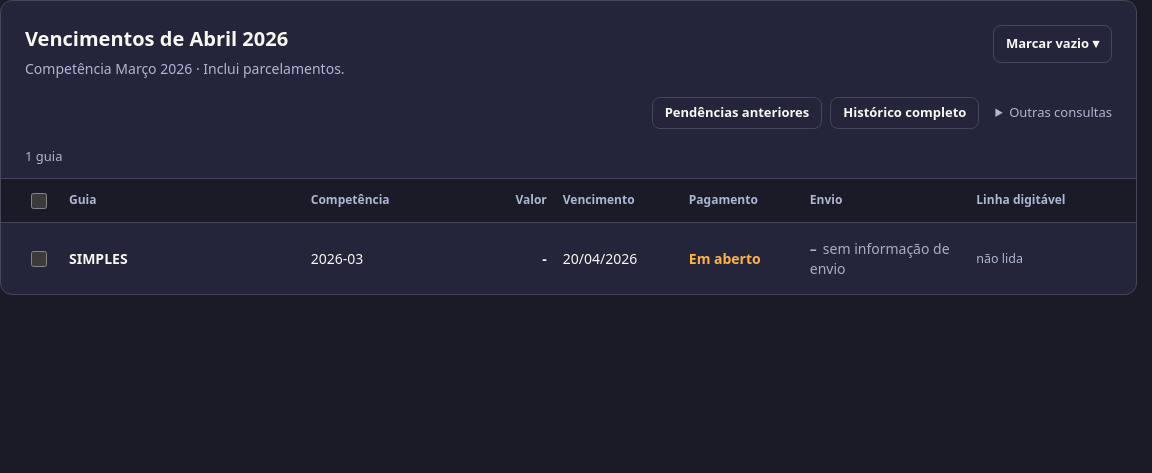
Test case: envio das guias selecionadas › envia as disponíveis sem bloquear o lote por {"status":"VAZIO"}
Click the button "Histórico completo" at (905, 113), box [830,97,979,129]
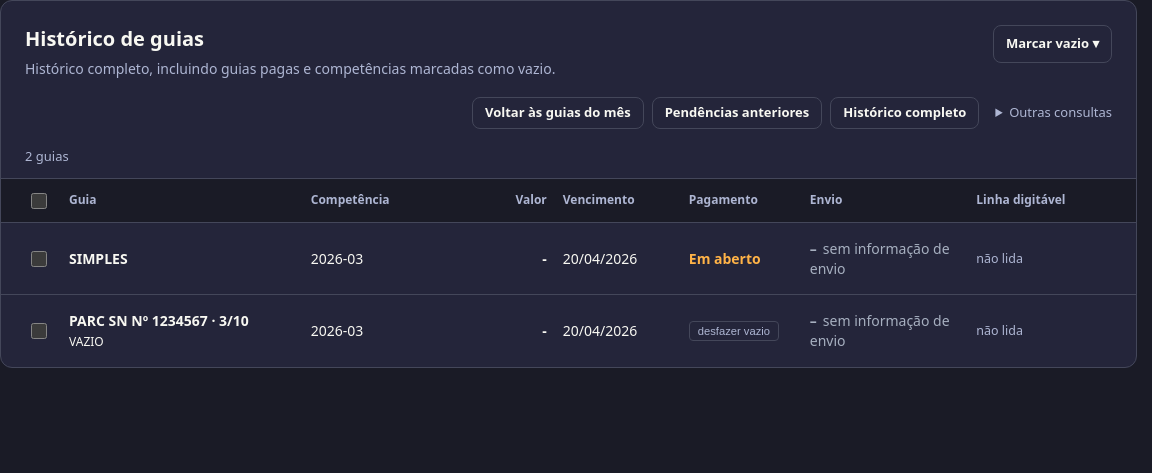
Click the checkbox named "Selecionar todas" at (39, 200), box [31,192,47,208]
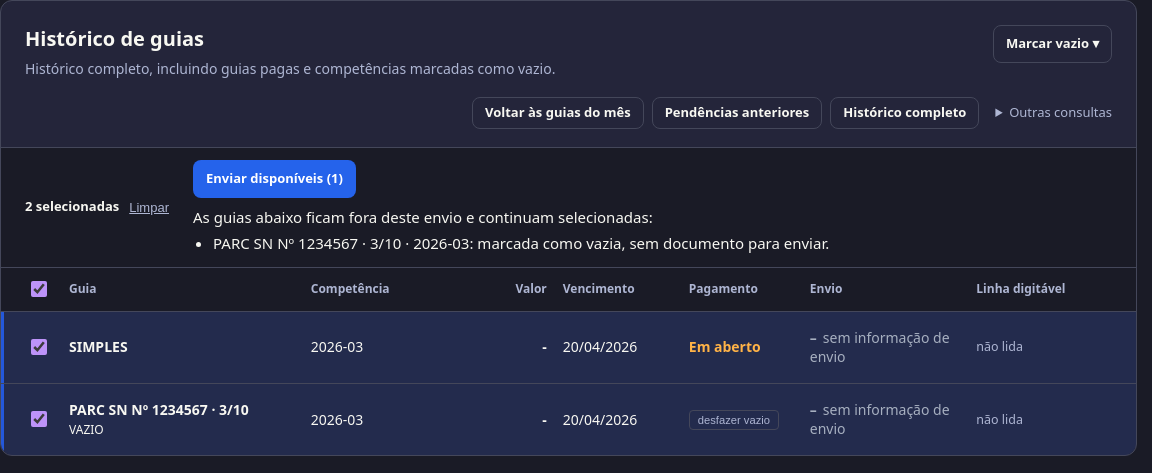
expect the list item "marcada como vazia" is shown: met, box [477,233,825,253]
expect the button "Enviar disponíveis (1)" is enabled: met
Click the button "Enviar disponíveis (1)" at (274, 178), box [193,160,356,198]
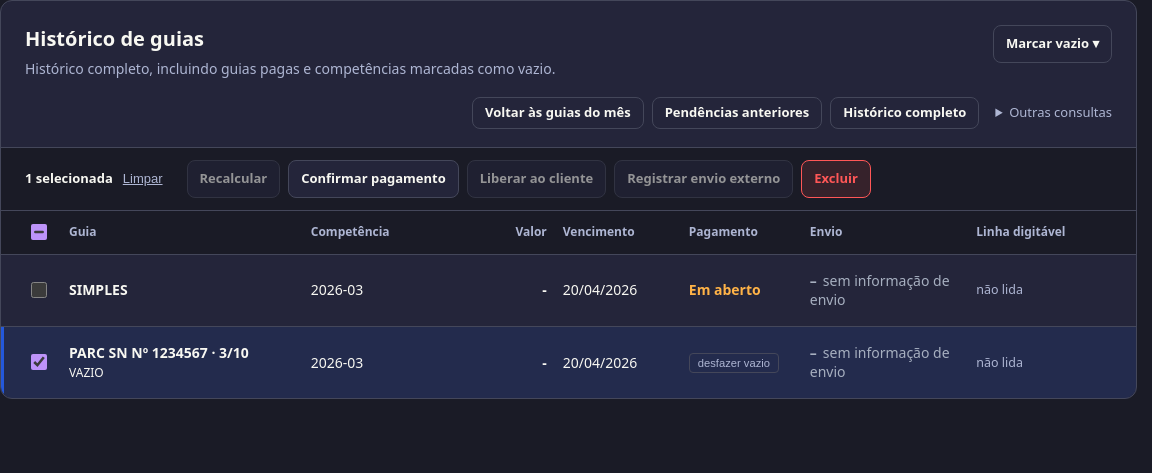
expect the checkbox named "Selecionar guia" is checked: met, box [31,354,47,370]
expect the checkbox named "Selecionar guia" is not checked: met, box [31,282,47,298]
